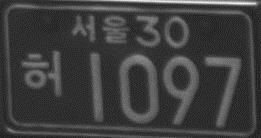0: (118, 51, 162, 124), (163, 13, 190, 50)
1: (84, 48, 113, 125)
3: (133, 13, 161, 47)
7: (201, 52, 243, 129)
9: (162, 55, 202, 128)
서울_O: (70, 12, 130, 46)
허: (20, 48, 64, 100)
